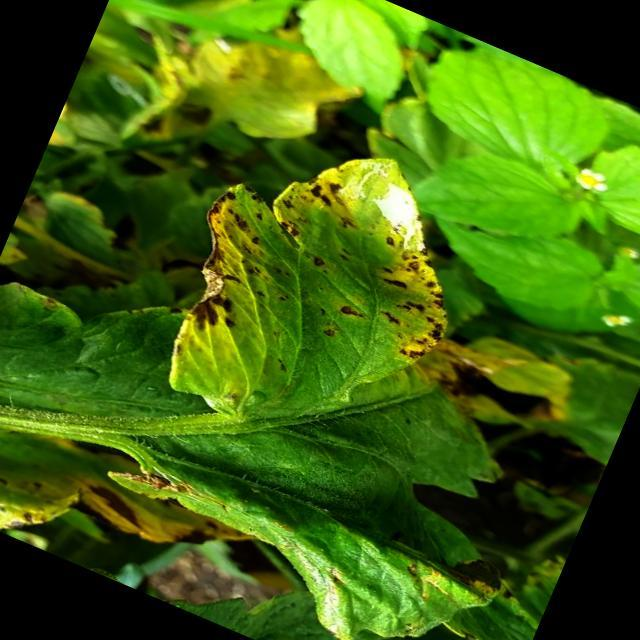Tomato bacterial spot leaf: (64, 90, 640, 640)
